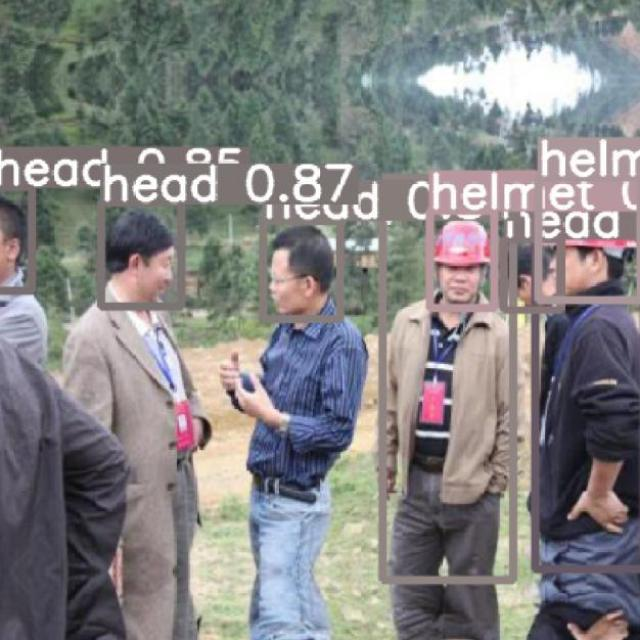helmet: (432, 220, 490, 267)
